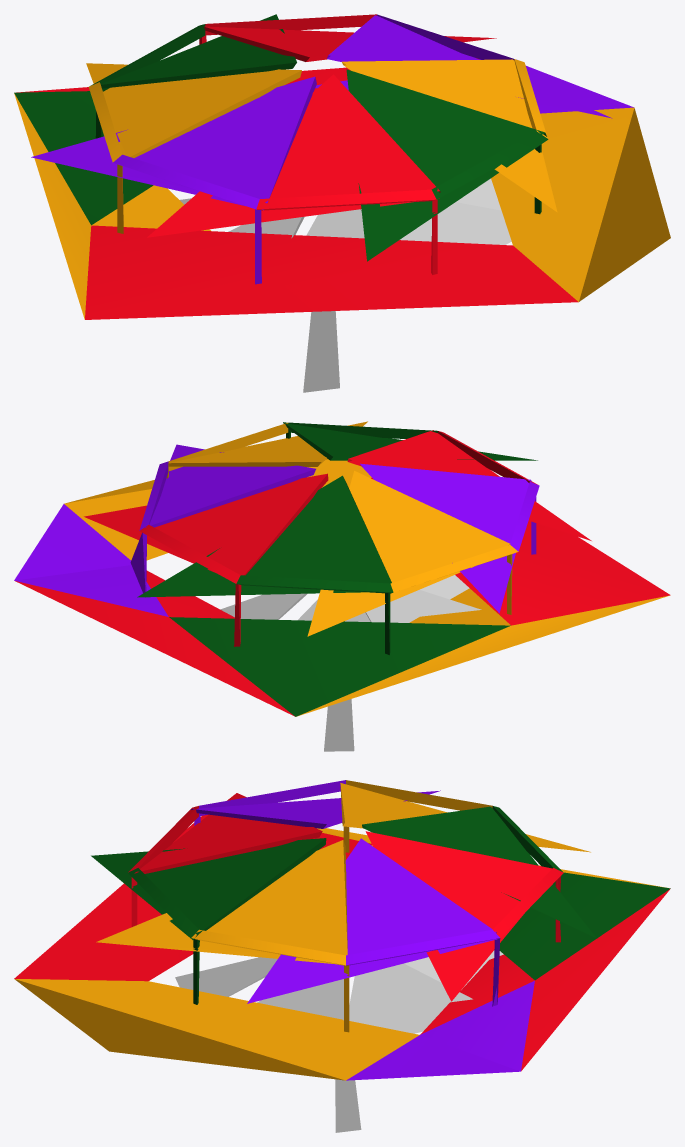
The model's file is GiraGiraLOD2.fbx.
The picture shows the model from 3 angles, top to bottom: view 1: azimuth 30°, elevation 25°; view 2: azimuth 150°, elevation 25°; view 3: azimuth 270°, elevation 25°; orthographic projection. The views are drawn at different scales.
Parts seen in each view (by area): view 1: BrinquedoGiraGiraLOD2; view 2: BrinquedoGiraGiraLOD2; view 3: BrinquedoGiraGiraLOD2.
Part boxes in pixels (bbox=[...]): BrinquedoGiraGiraLOD2: bbox=[14, 14, 670, 392]; BrinquedoGiraGiraLOD2: bbox=[14, 421, 670, 751]; BrinquedoGiraGiraLOD2: bbox=[14, 780, 670, 1132].
Size of the model in its own units: 222 by 110 by 222.
